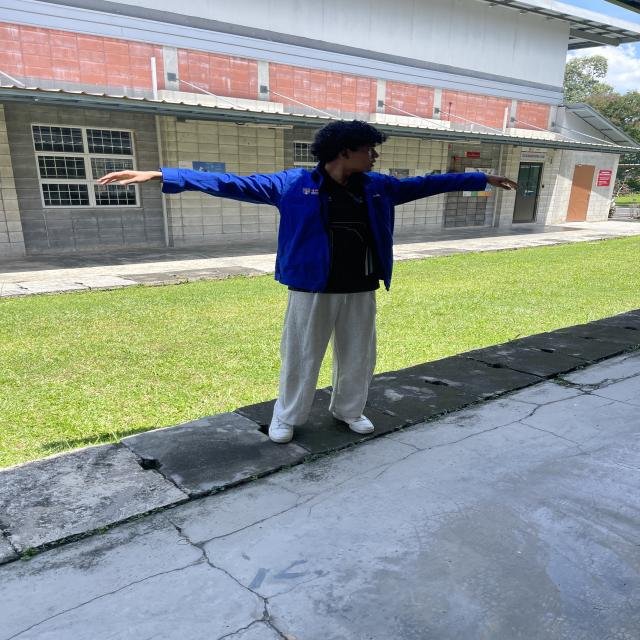person_with_labcoat: (99, 120, 519, 443)
